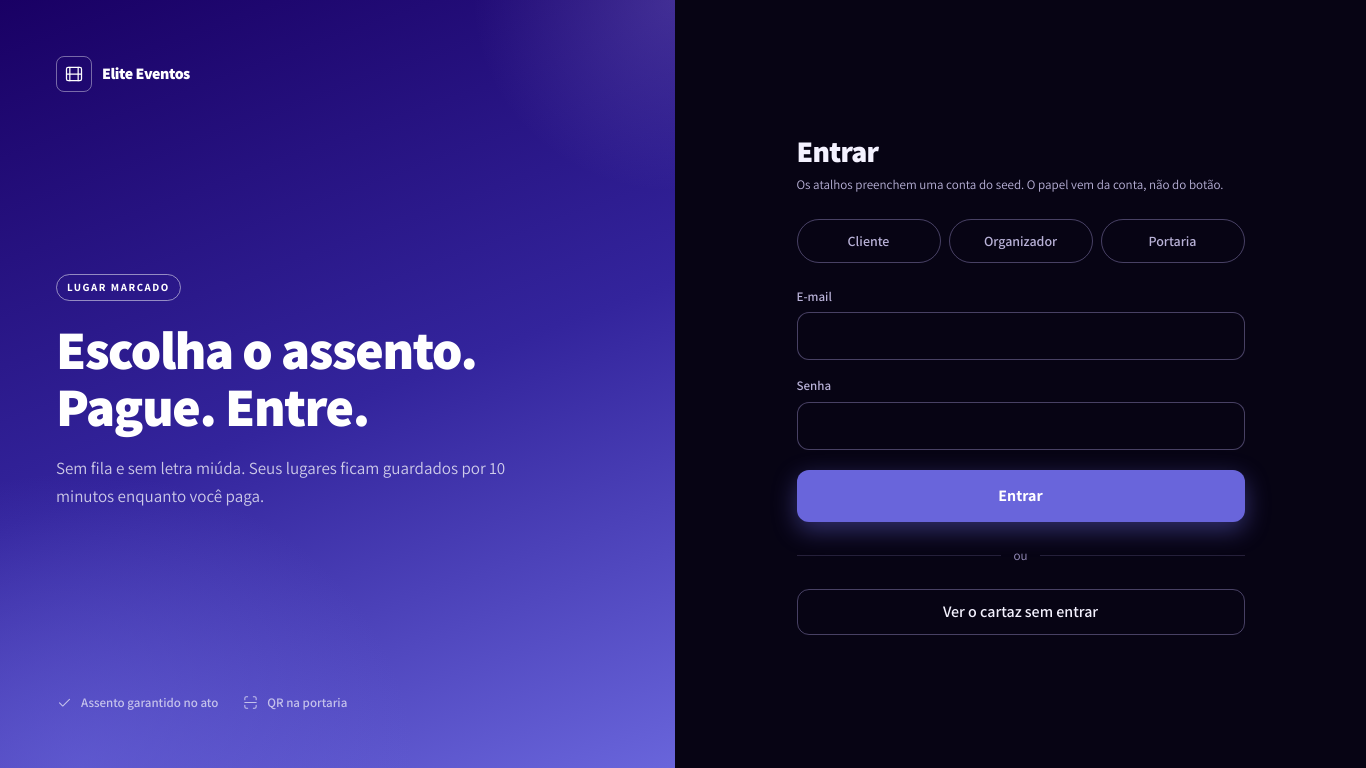
Test: login › depois do login mostra o papel que a API devolveu
The image size is (1366, 768).
Type "org@elite.local" into the field labelled "E-mail". click: (1020, 336)
box: [796, 312, 1244, 360]
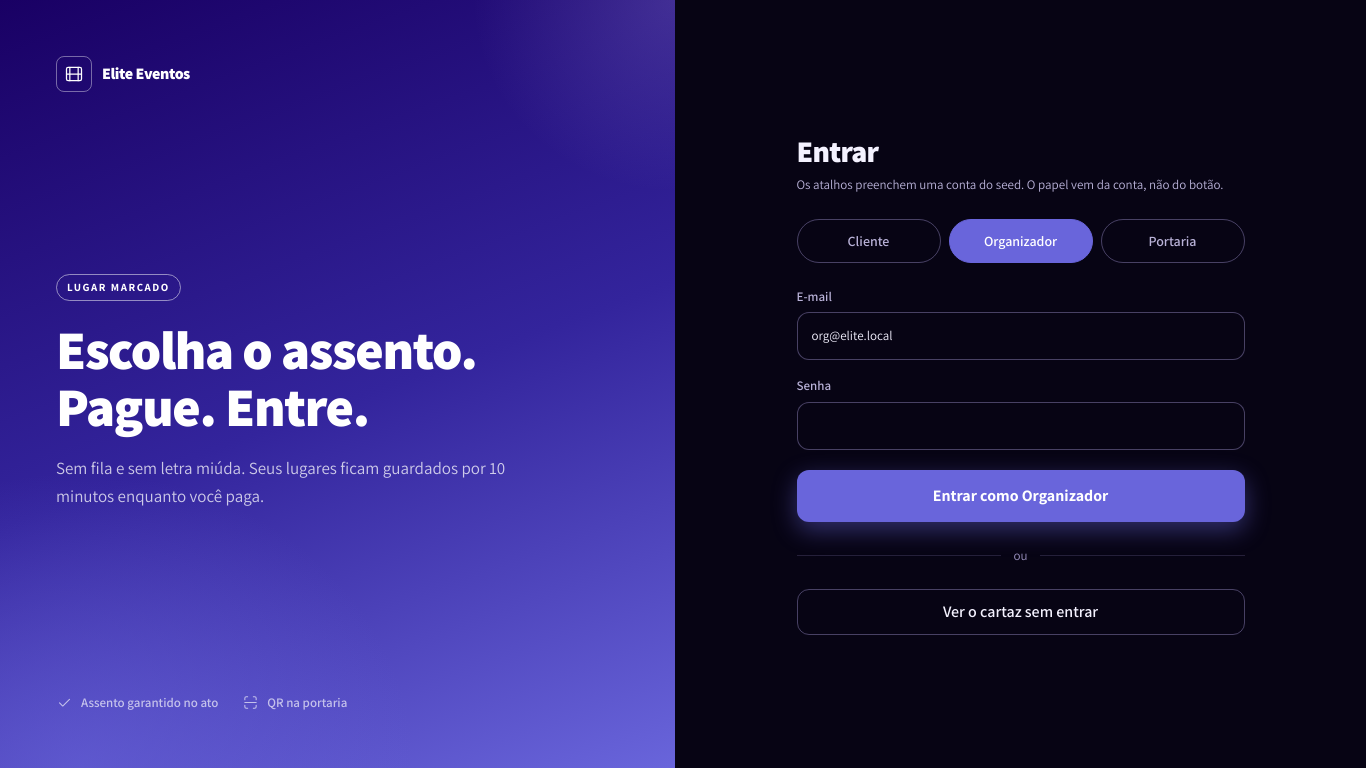
Type "org12345" into the password field labelled "Senha". click: (1020, 426)
box: [796, 402, 1244, 450]
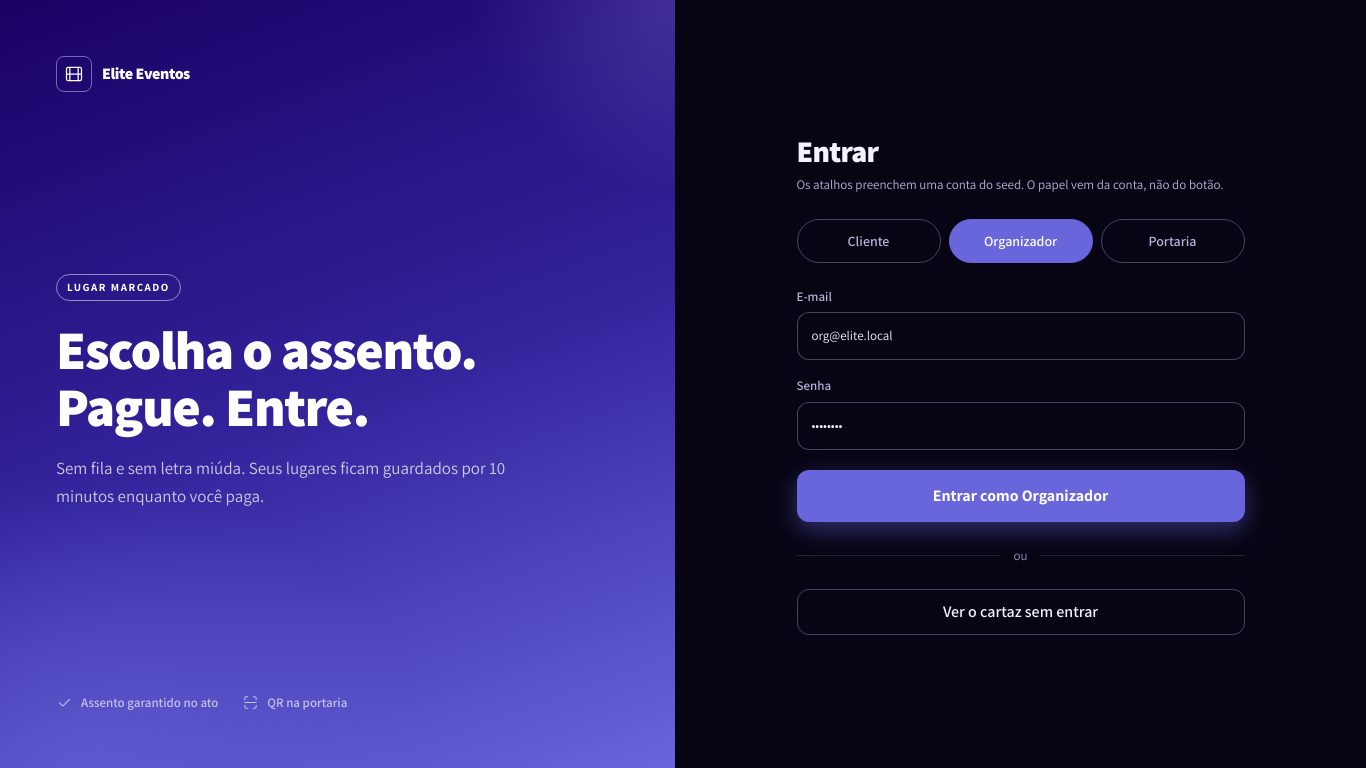
Click the button "Entrar como Organizador". click: (1020, 496)
box: [796, 470, 1244, 522]
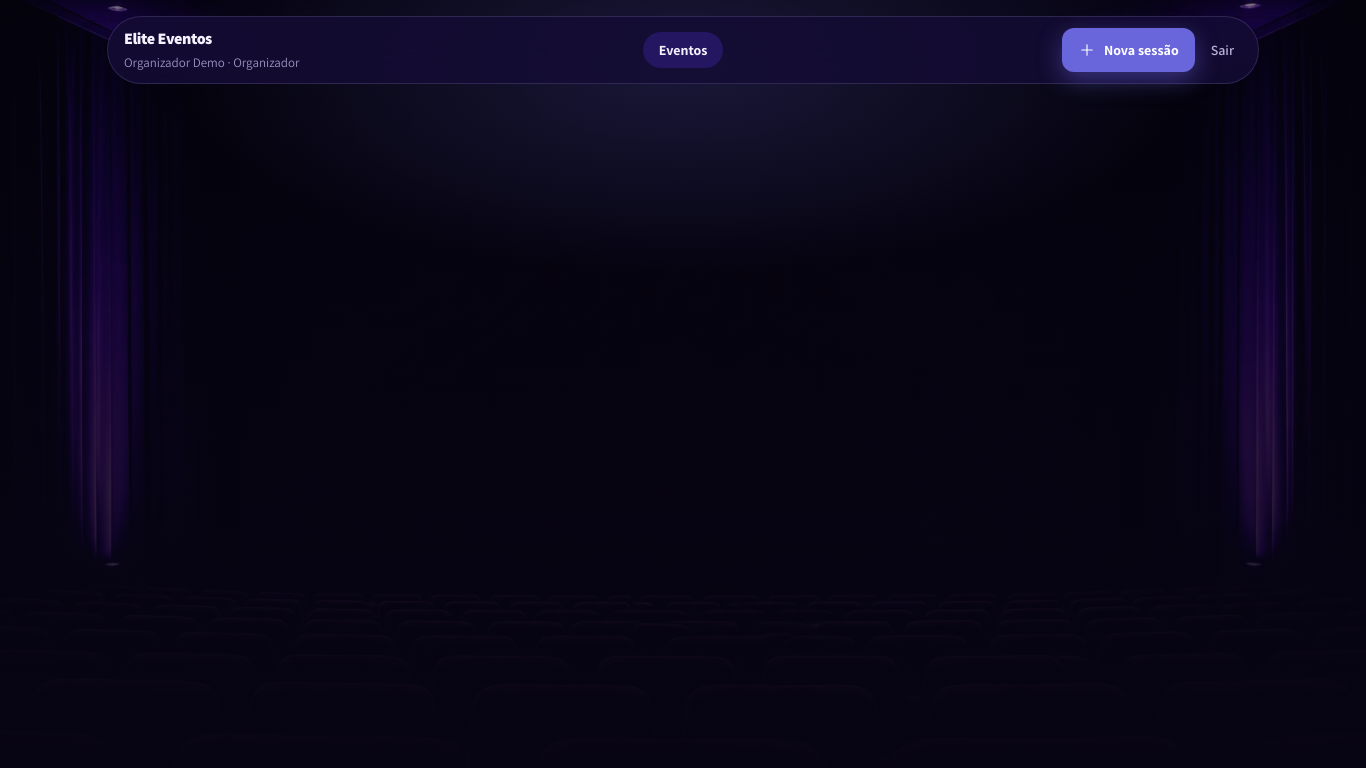
Expected: the text named "sessão" shows "Organizador Demo", [124, 54, 225, 71]
Expected: the text named "sessão" shows "Organizador", [233, 54, 299, 71]
